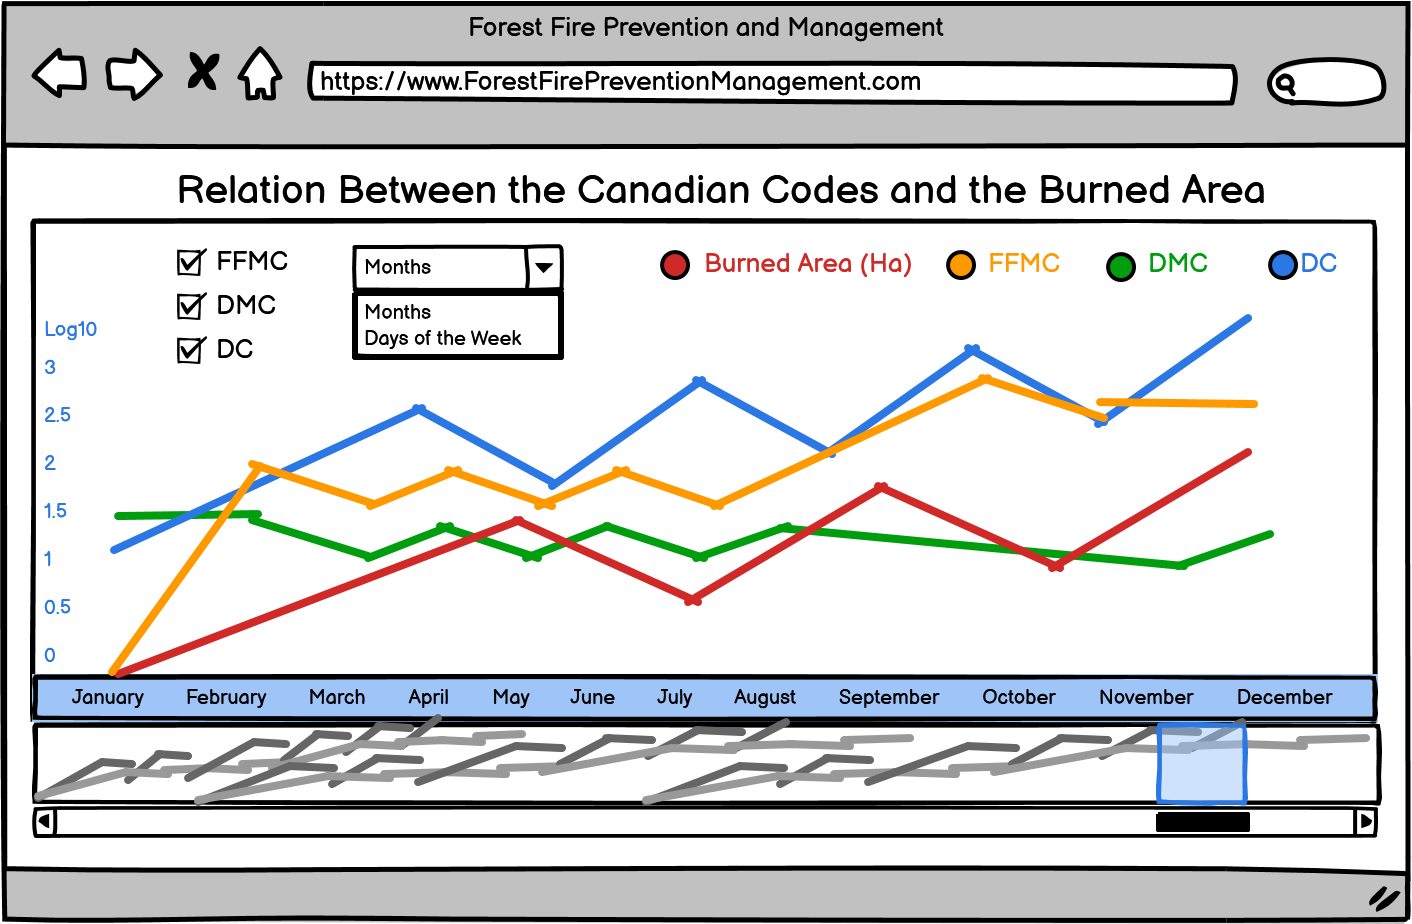

What the dashboard file says about the page in this screenshot:
{"tool":"tableau","page":{"name":"Relation Between the Canadian  Codes and Burned Area","canvas":[1000,1000],"units":"permille","ordinal":2},"visuals":[{"type":"worksheet","box":[0,0,1000,1000]},{"type":"worksheet","param":"horz","box":[8.4,10.5,983.2,978.9]},{"type":"worksheet","box":[8.4,10.5,742.1,978.9]},{"type":"worksheet","title":"Relation Between the Canadian Codes and the Burned Area","mark":"Line","rows":["burned_area"],"cols":["Select Options - Wind Speed (copy)_489485014977863690"],"box":[8.4,10.5,742.1,978.9]},{"type":"worksheet","param":"vert","box":[750.5,10.5,241.1,978.9]},{"type":"worksheet","title":"Relation Between the Canadian Codes and the Burned Area","mark":"Line","rows":["burned_area"],"cols":["Select Options - Wind Speed (copy)_489485014977863690"],"param":"[federated.018flwa0r0w9l21bi048g1bm1vgd].[:Measure Names]","box":[750.5,10.5,241.1,150]},{"type":"worksheet","param":"[Parameters].[Accumulated Precipitation (copy)_489485014977282057]","box":[750.5,160.5,241.1,73.7]},{"type":"worksheet","param":"[Parameters].[Day/Month (copy)_489485014982045707]","box":[750.5,234.2,241.1,107.9]},{"type":"worksheet","param":"[Parameters].[FFMC (copy)_489485014982184972]","box":[750.5,342.1,241.1,107.9]},{"type":"worksheet","param":"[Parameters].[DMC (copy)_489485014982225933]","box":[750.5,450,241.1,107.9]}]}

Visuals, with their boxes on the dashboard's canvas, which has no fixed pixel size, in thousandths of its width and height (x1, y1, x2, y2). These are canvas units, not pixel positions in the 1412x924 screenshot, which may show the page scaled, cropped or inside an application window:
worksheet: pyautogui.locateOnScreen(0, 0, 1000, 1000)
worksheet: pyautogui.locateOnScreen(8, 10, 992, 989)
worksheet: pyautogui.locateOnScreen(8, 10, 750, 989)
"Relation Between the Canadian Codes and the Burned Area" worksheet (Line marks): pyautogui.locateOnScreen(8, 10, 750, 989)
worksheet: pyautogui.locateOnScreen(750, 10, 992, 989)
"Relation Between the Canadian Codes and the Burned Area" worksheet (Line marks): pyautogui.locateOnScreen(750, 10, 992, 160)
worksheet: pyautogui.locateOnScreen(750, 160, 992, 234)
worksheet: pyautogui.locateOnScreen(750, 234, 992, 342)
worksheet: pyautogui.locateOnScreen(750, 342, 992, 450)
worksheet: pyautogui.locateOnScreen(750, 450, 992, 558)
